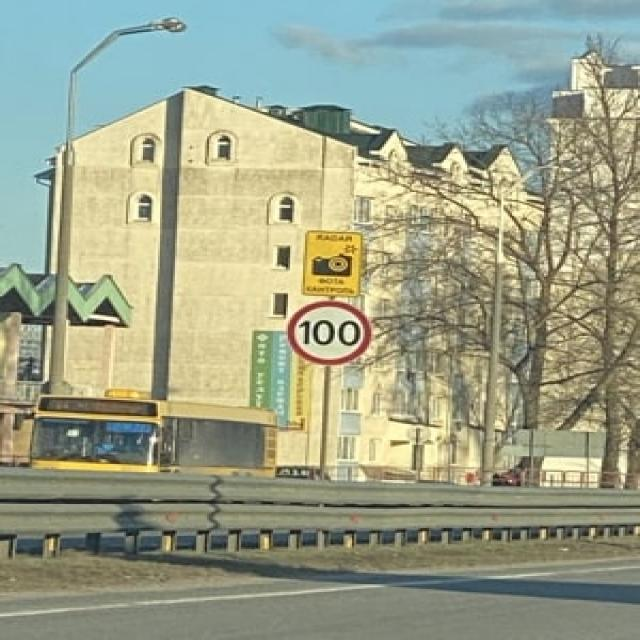Speed Limit -100-: (298, 320, 360, 346)
